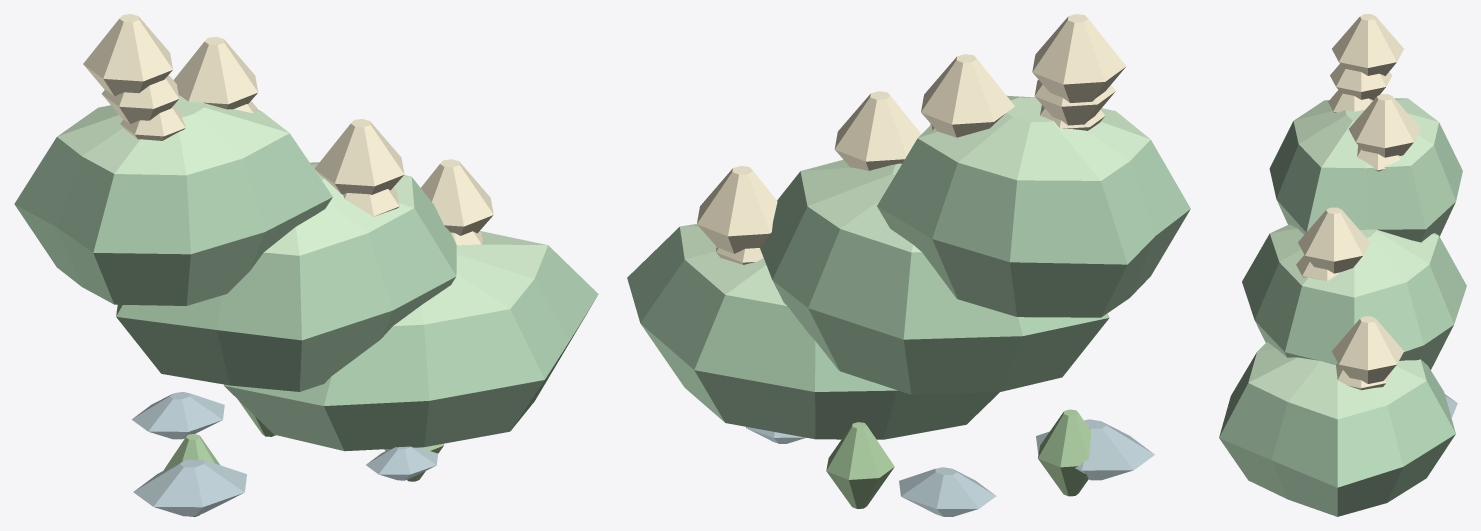
The model's file is lagoon_shrub_oceanspray_b.glb.
3 views of the same model, side by side, from view 1: azimuth 30°, elevation 25°; view 2: azimuth 150°, elevation 25°; view 3: azimuth 270°, elevation 25° (orthographic). The views are drawn at different scales.
Visible parts, largest first — view 1: lagoon_shrub_oceanspray_b.001; view 2: lagoon_shrub_oceanspray_b.001; view 3: lagoon_shrub_oceanspray_b.001.
Part boxes in pixels (box(x1,y1,x2,y2)): lagoon_shrub_oceanspray_b.001: box(14, 14, 598, 516); lagoon_shrub_oceanspray_b.001: box(627, 14, 1190, 516); lagoon_shrub_oceanspray_b.001: box(1219, 14, 1466, 516).
Size of the model in its own units: 2.89 by 2.51 by 1.47.
